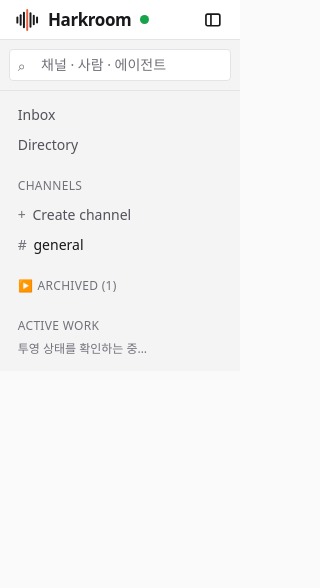
Test: 채널 삭제 UI (#155) › 삭제 실패는 화면에 남는다 — 조용히 삼키지 않는다
Click the button "▶ Archived (1)" at [120, 288], box 9,277 -> 231,300
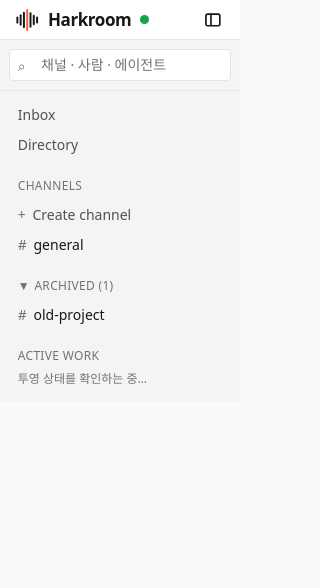
Right-click the button "# old-project" at [120, 314], box 9,300 -> 231,329
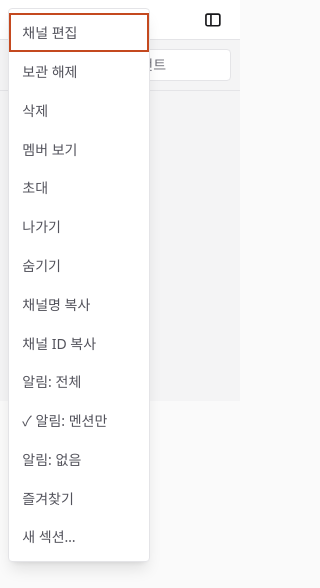
Click the menu item "삭제" at [79, 110], box 9,91 -> 149,130
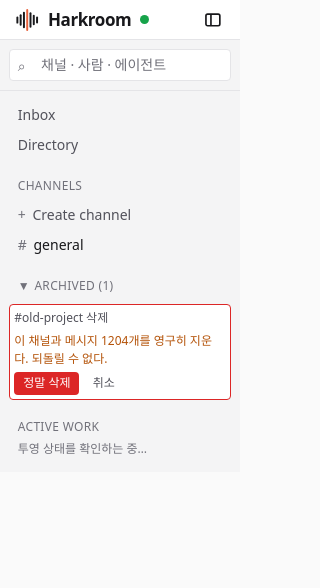
Result: the button "정말 삭제" is shown
Click the button "정말 삭제" at [47, 384], box 14,372 -> 79,395
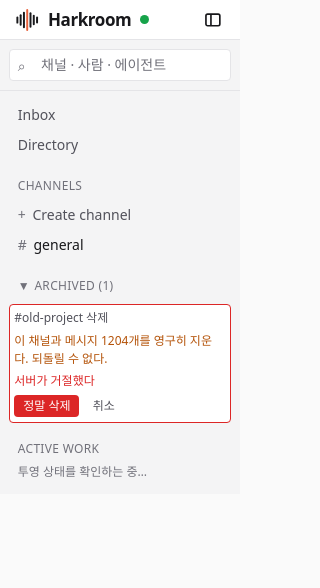
Result: the message reads "서버가 거절했다" at 14,372 -> 95,389
